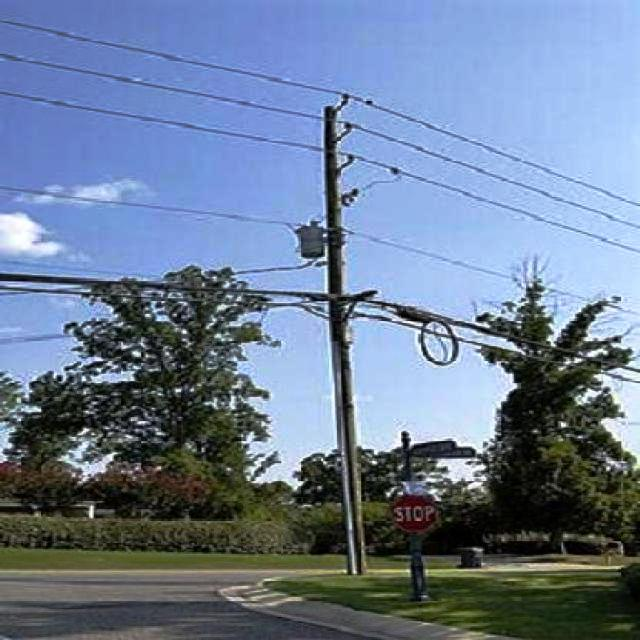poles: (252, 79, 420, 579)
wires: (1, 4, 319, 169), (358, 96, 639, 254)
